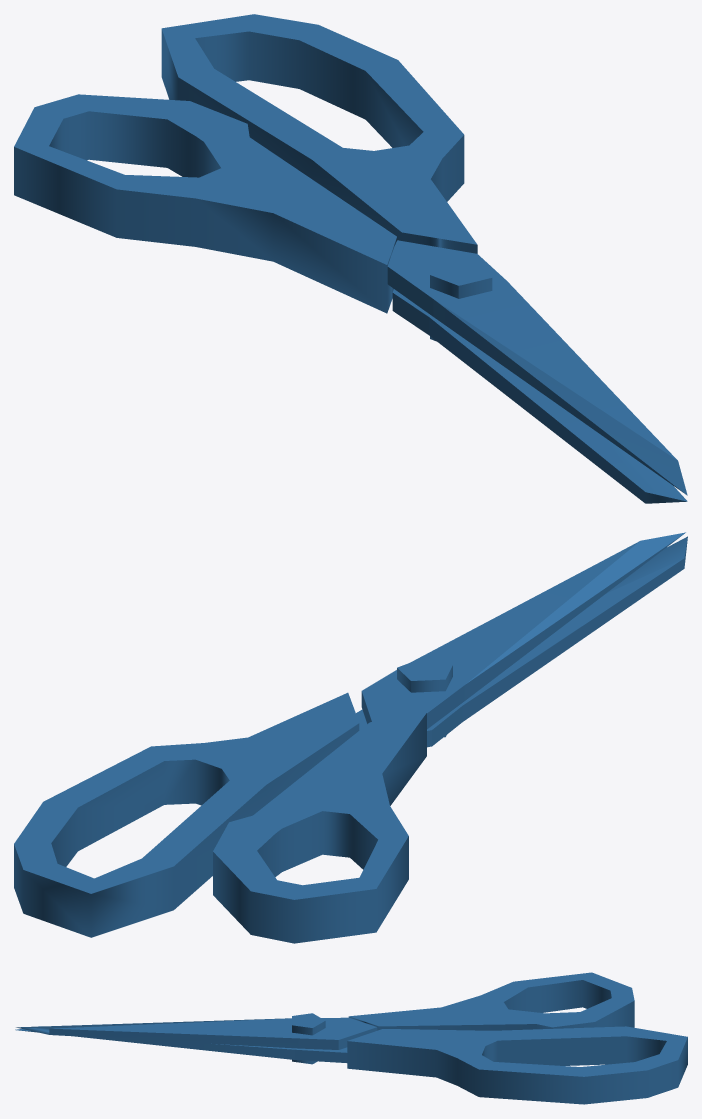
Rendered from tijera.fbx.
3 renders of one model, top to bottom at view 1: azimuth 30°, elevation 25°; view 2: azimuth 150°, elevation 25°; view 3: azimuth 270°, elevation 25°, orthographic. The views are drawn at different scales.
Parts seen in each view (by area): view 1: polySurface1; view 2: polySurface1; view 3: polySurface1.
Boxes of the visible parts, left/top/right/bottom form: polySurface1: left=14, top=14, right=687, bottom=503; polySurface1: left=14, top=532, right=687, bottom=943; polySurface1: left=15, top=972, right=687, bottom=1104.
Size of the model in its own units: 0.0889 by 0.0144 by 0.2428.
